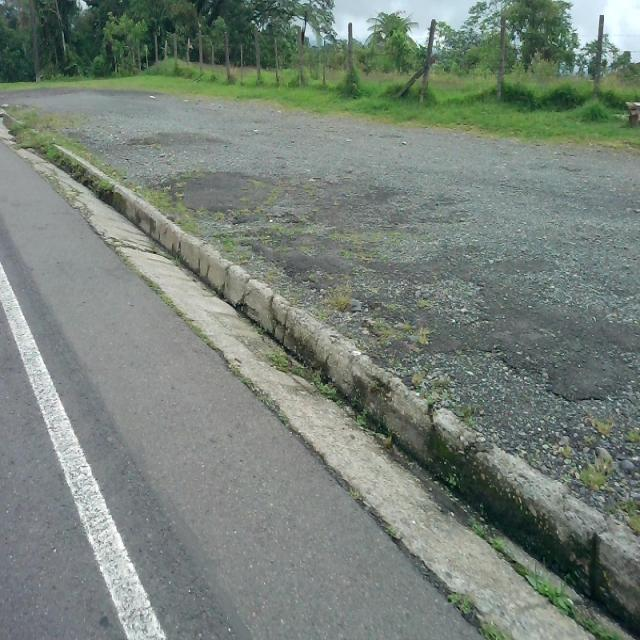DITCH: (2, 93, 638, 638), (1, 111, 639, 638)
